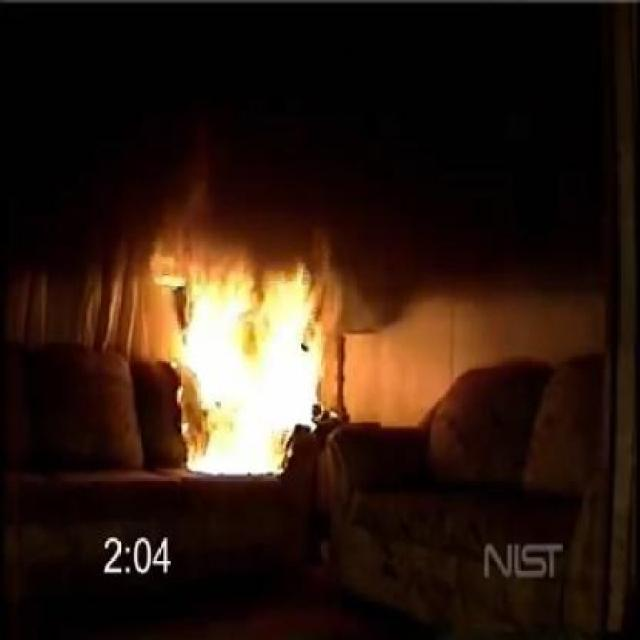Fire: (138, 235, 344, 484)
Smoke: (17, 19, 638, 287)
